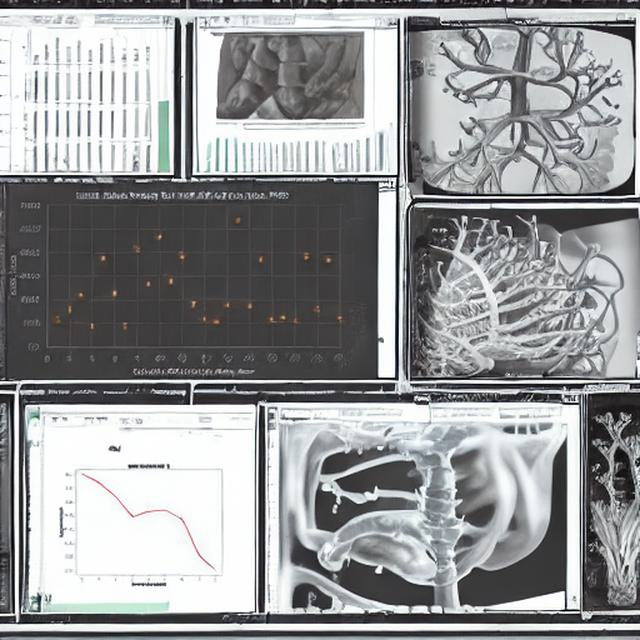Graph: (7, 186, 347, 380), (47, 453, 246, 590), (17, 25, 97, 72)
